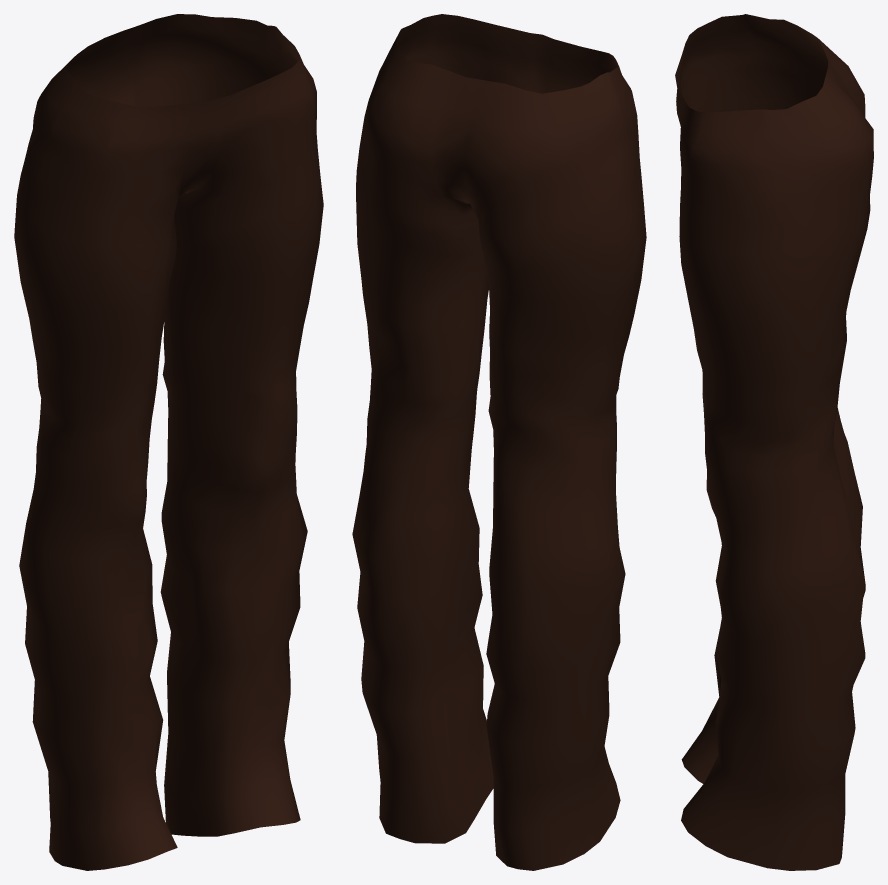
Rendered from Harry_Pant.fbx.
3 renders of one model, left to right at view 1: azimuth 30°, elevation 25°; view 2: azimuth 150°, elevation 25°; view 3: azimuth 270°, elevation 25°, orthographic. The views are drawn at different scales.
Visible parts, largest first — view 1: Harry PAnt; view 2: Harry PAnt; view 3: Harry PAnt.
Part boxes in pixels (x1,y1,x2,y2): Harry PAnt: (14,14,323,870); Harry PAnt: (352,14,646,870); Harry PAnt: (675,14,873,870).
Size of the model in its own units: 28.33 by 77.12 by 17.97.
